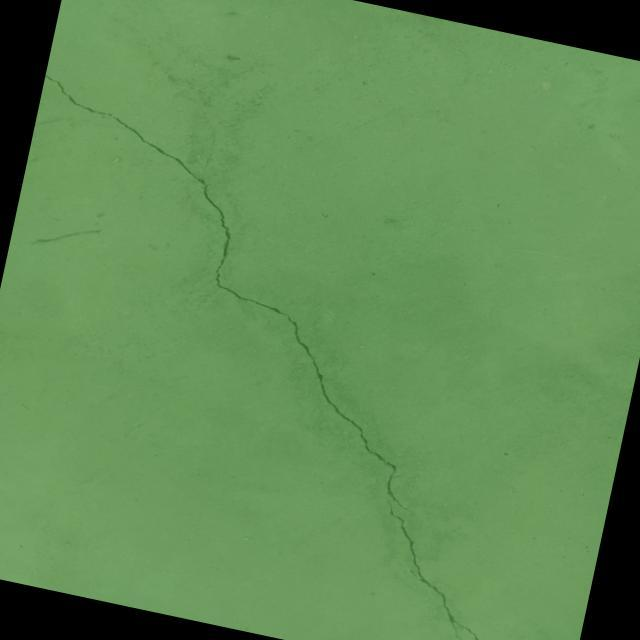crack: (0, 73, 487, 518), (356, 499, 599, 640)
